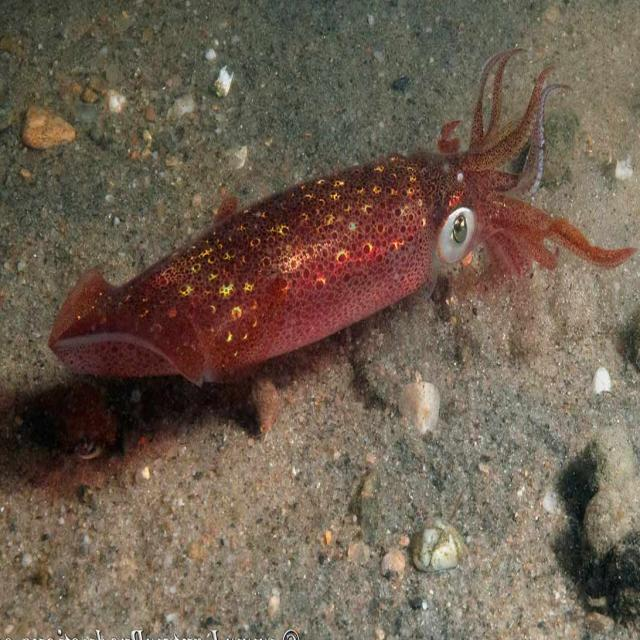SQUID: (33, 33, 640, 425)
